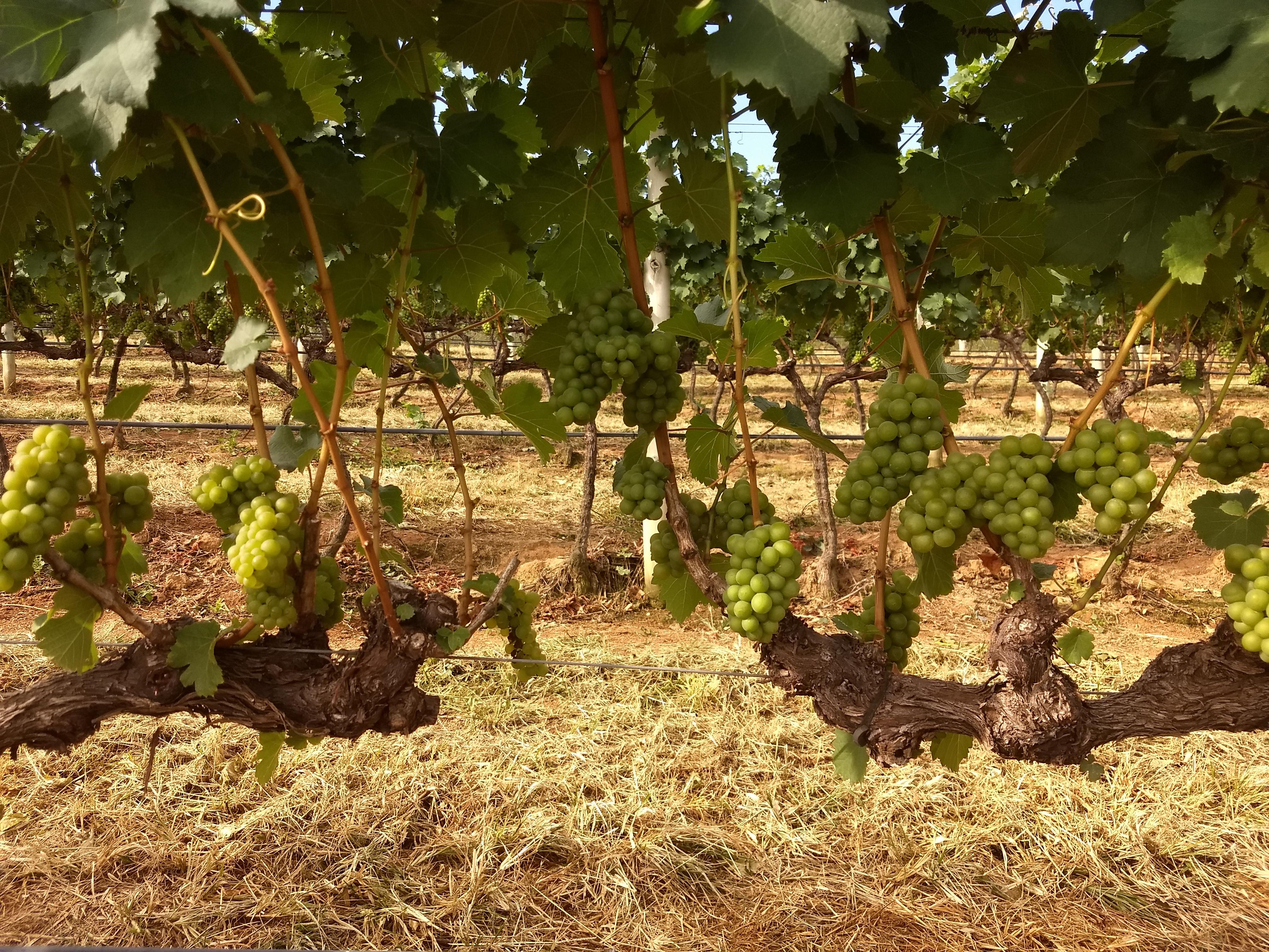leaf: (1045, 116, 1222, 279), (978, 10, 1130, 178), (706, 0, 890, 113), (508, 150, 623, 303), (123, 162, 242, 304), (0, 111, 91, 258), (778, 129, 900, 233), (414, 201, 526, 310), (1167, 0, 1268, 114), (904, 122, 1012, 215), (420, 110, 522, 207), (463, 368, 566, 462), (437, 0, 565, 74), (0, 0, 105, 86), (350, 33, 438, 128), (526, 44, 605, 148), (948, 200, 1047, 275), (884, 2, 958, 89), (473, 80, 546, 168), (754, 223, 848, 291), (751, 394, 845, 461), (661, 150, 729, 242), (651, 51, 722, 139), (1173, 113, 1268, 178), (33, 585, 101, 672), (47, 90, 131, 160), (500, 380, 565, 462), (279, 49, 347, 123), (1162, 211, 1228, 284), (1189, 490, 1268, 548), (336, 0, 436, 45), (167, 621, 223, 696), (329, 251, 391, 316), (684, 412, 738, 485), (489, 267, 554, 326), (992, 266, 1063, 320), (357, 142, 413, 210), (345, 195, 405, 255), (518, 312, 572, 372), (658, 298, 729, 343), (917, 326, 968, 388), (272, 9, 351, 48), (344, 312, 387, 378), (223, 314, 271, 371), (886, 183, 939, 233), (205, 156, 254, 206), (911, 546, 956, 599), (269, 426, 321, 471), (658, 572, 704, 622), (742, 317, 788, 366), (832, 728, 869, 783), (116, 529, 148, 589), (865, 316, 903, 366), (101, 384, 152, 420), (1048, 467, 1081, 522), (930, 732, 973, 772), (675, 0, 721, 37), (308, 360, 337, 417), (615, 432, 652, 471), (1056, 627, 1093, 664), (234, 221, 266, 255), (434, 626, 471, 654), (292, 390, 318, 426), (609, 56, 629, 100), (718, 311, 734, 361), (341, 364, 361, 402), (940, 389, 963, 422), (1219, 499, 1246, 517), (613, 475, 619, 491), (890, 371, 896, 378), (278, 14, 288, 18), (427, 104, 430, 110), (698, 320, 700, 323), (653, 453, 654, 457), (358, 37, 361, 38), (394, 34, 395, 35), (729, 352, 729, 352), (313, 14, 327, 14), (289, 14, 295, 14)
